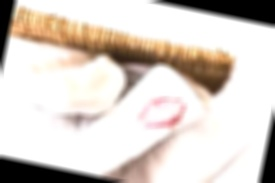lipstick: (138, 91, 188, 136)
